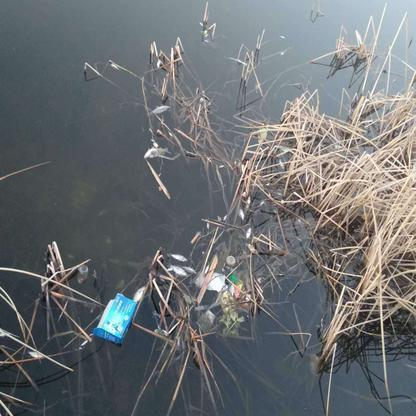deceased fish: (164, 263, 188, 277), (165, 251, 188, 262)
